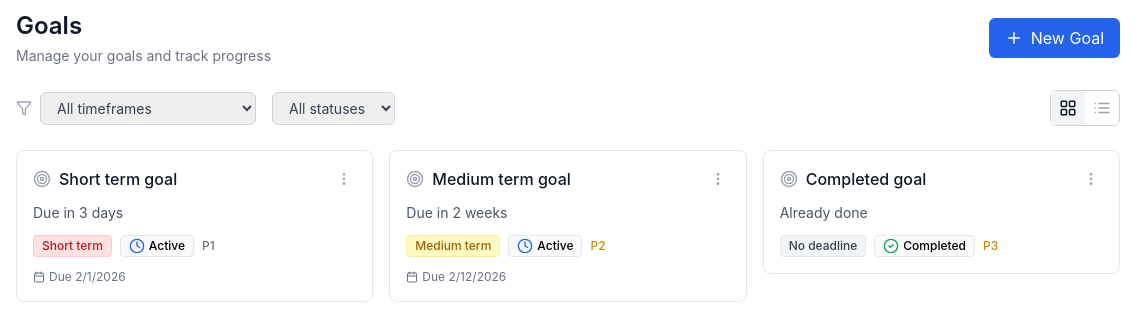
Test: Goals › shows filter empty state when filters exclude all goals
Expected: the heading "Short term goal" is shown, [59, 167, 177, 191]
Filter to archived (none exist)
Select "Archived" in the 2nd dropdown showing "All statuses" at (334, 108), box [272, 92, 395, 124]
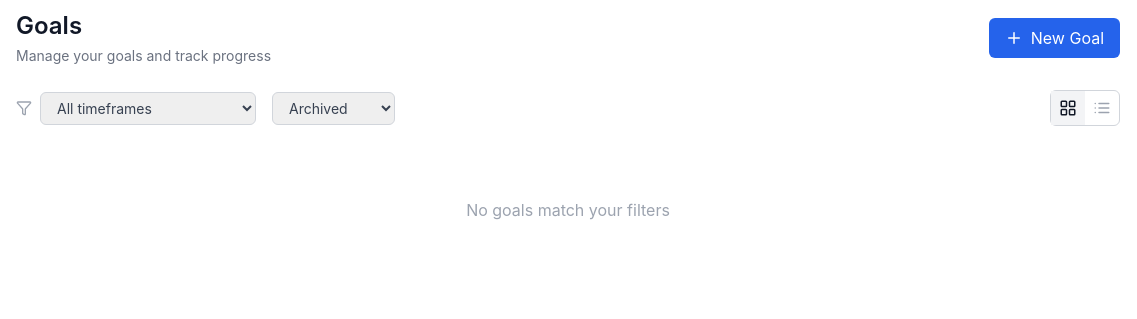
Expected: the text "No goals match your filters" is shown, [466, 200, 670, 220]
